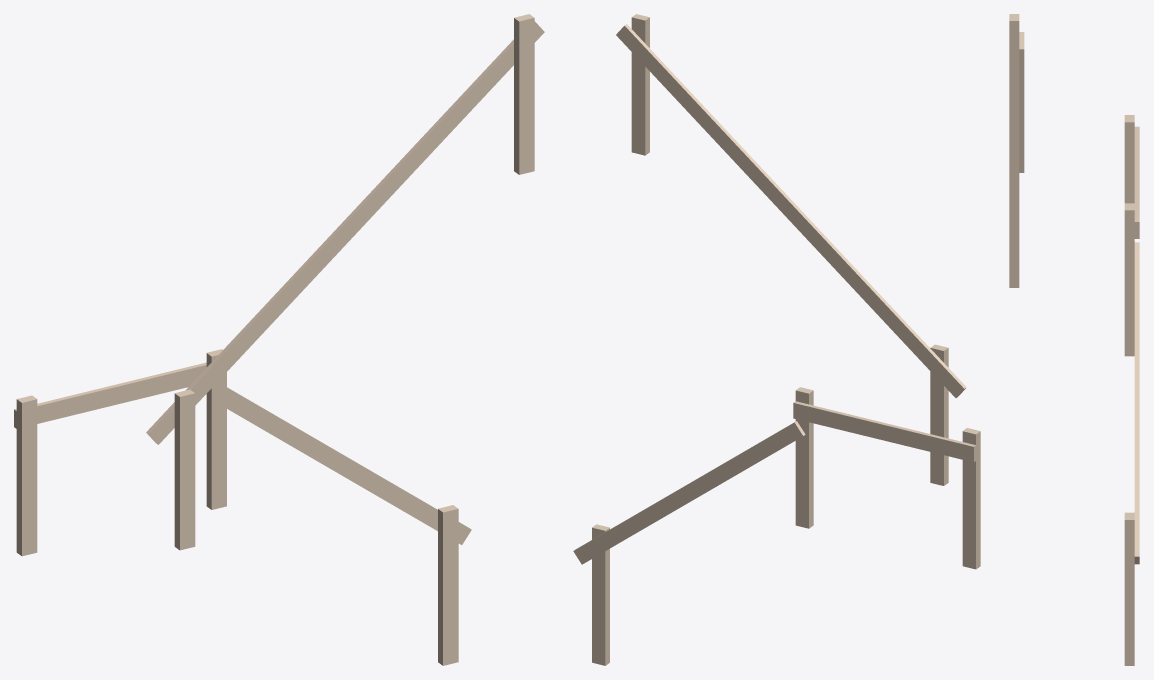
The model's file is rail 13.fbx.
3 views of the same model, side by side, from view 1: azimuth 30°, elevation 25°; view 2: azimuth 150°, elevation 25°; view 3: azimuth 270°, elevation 25° (orthographic). The views are drawn at different scales.
Parts seen in each view (by area): view 1: rail 13; view 2: rail 13; view 3: rail 13.
Boxes of the visible parts, x1,y1,x2,y2 form: rail 13: (14,14,544,665); rail 13: (573,14,980,665); rail 13: (1009,14,1139,665).
Size of the model in its own units: 310 by 434 by 78.75.
